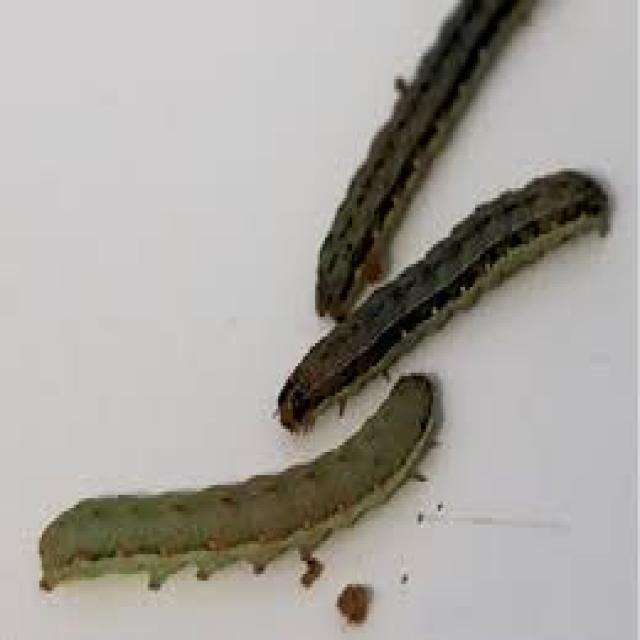Army Worm: (34, 364, 442, 599), (266, 166, 615, 436), (317, 1, 540, 314)
